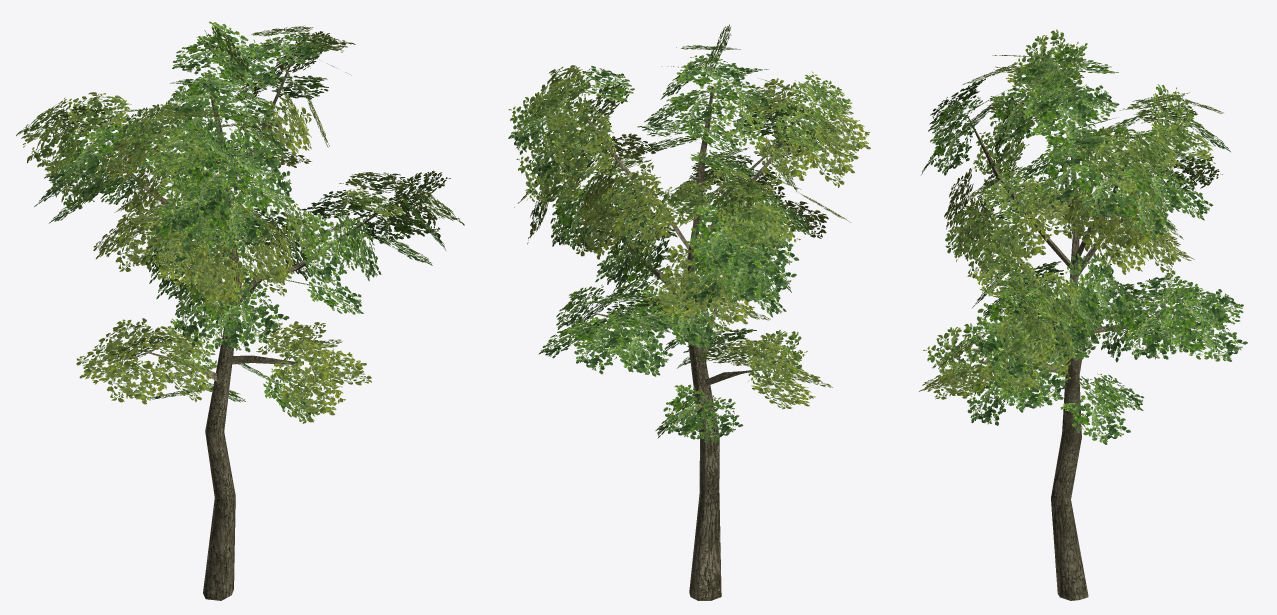
The model's file is tree1b_lod2.glb.
The picture shows the model from 3 angles, left to right: view 1: azimuth 30°, elevation 25°; view 2: azimuth 150°, elevation 25°; view 3: azimuth 270°, elevation 25°; orthographic projection. The views are drawn at different scales.
Visible parts, largest first — view 1: polySurface2292, polySurface814; view 2: polySurface2292, polySurface814; view 3: polySurface2292, polySurface814.
Boxes of the visible parts, box(x1,y1,x2,y2) form: polySurface2292: box(16, 21, 464, 423); polySurface814: box(77, 53, 377, 600); polySurface2292: box(508, 24, 870, 443); polySurface814: box(577, 86, 803, 600); polySurface2292: box(919, 29, 1247, 444); polySurface814: box(967, 86, 1194, 600).
Size of the model in its own units: 11.25 by 17.33 by 9.55.
2 materials, 2 textured.
